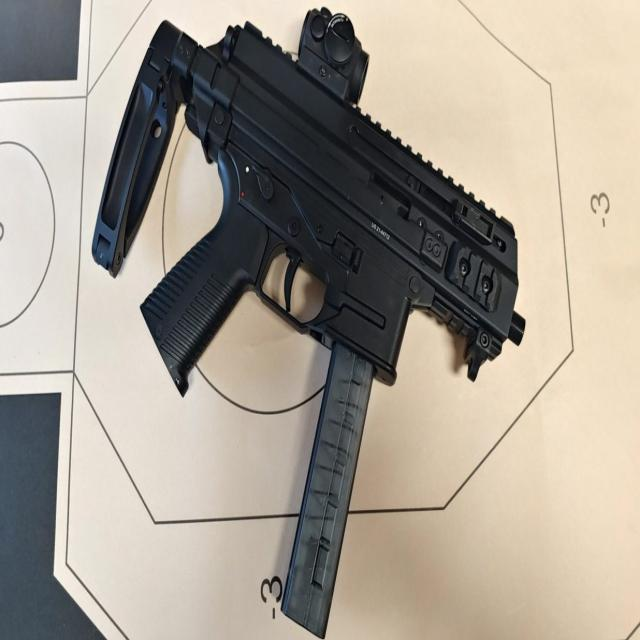Weapon: (92, 7, 525, 637)
